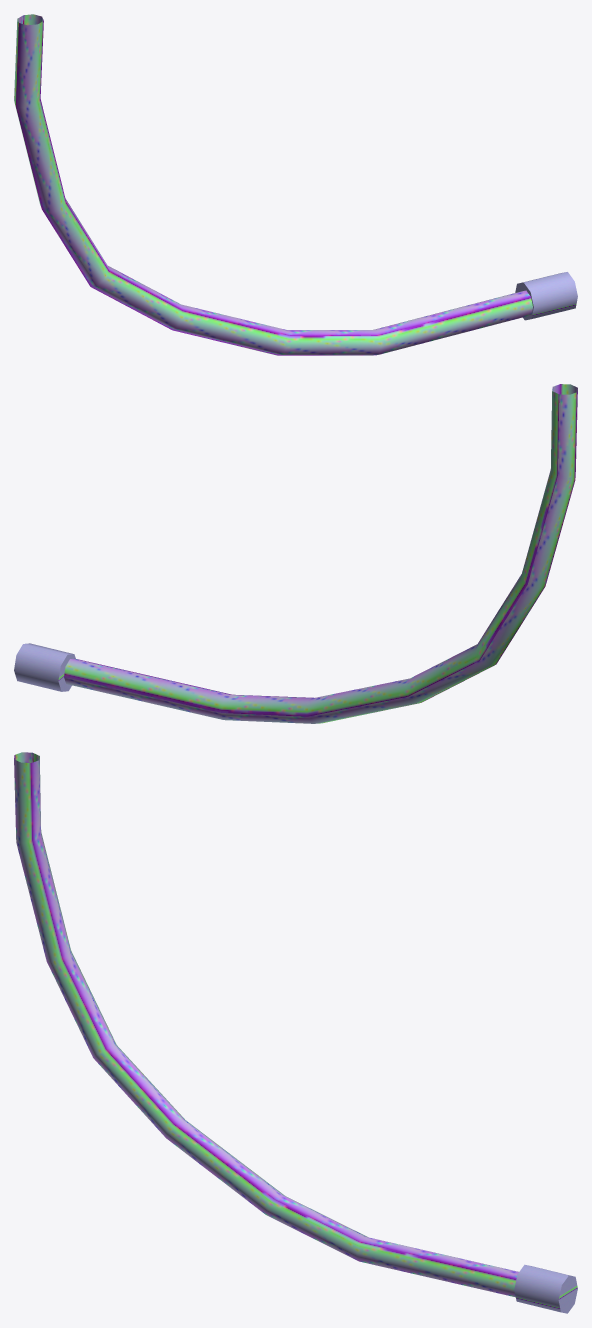
File: LitCableA2.fbx
3 views of the same model, one above another, from view 1: azimuth 30°, elevation 25°; view 2: azimuth 150°, elevation 25°; view 3: azimuth 330°, elevation 25° (orthographic).
Parts seen in each view (by area): view 1: LitCableA2; view 2: LitCableA2; view 3: LitCableA2.
Part boxes in pixels (bbox=[...]): LitCableA2: bbox=[14, 14, 577, 355]; LitCableA2: bbox=[14, 384, 577, 723]; LitCableA2: bbox=[14, 752, 577, 1313].
Size of the model in its own units: 71.47 by 52.23 by 5.03.
Materials: 1 (1 with a texture image).
